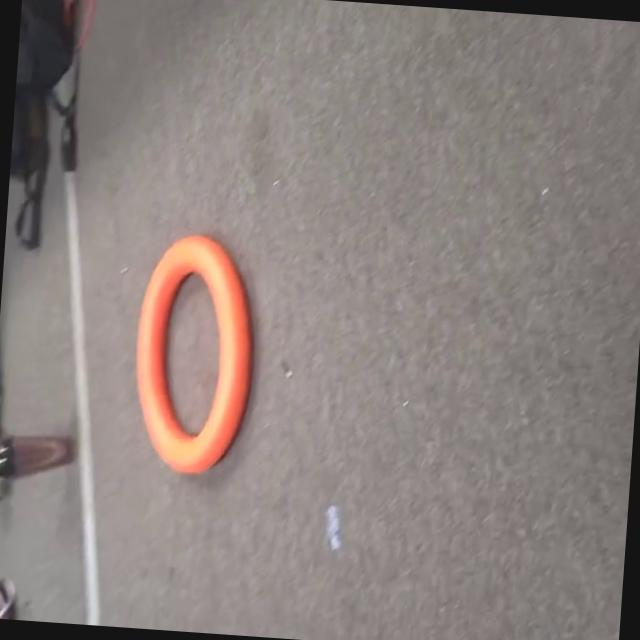note: (122, 217, 270, 489)
